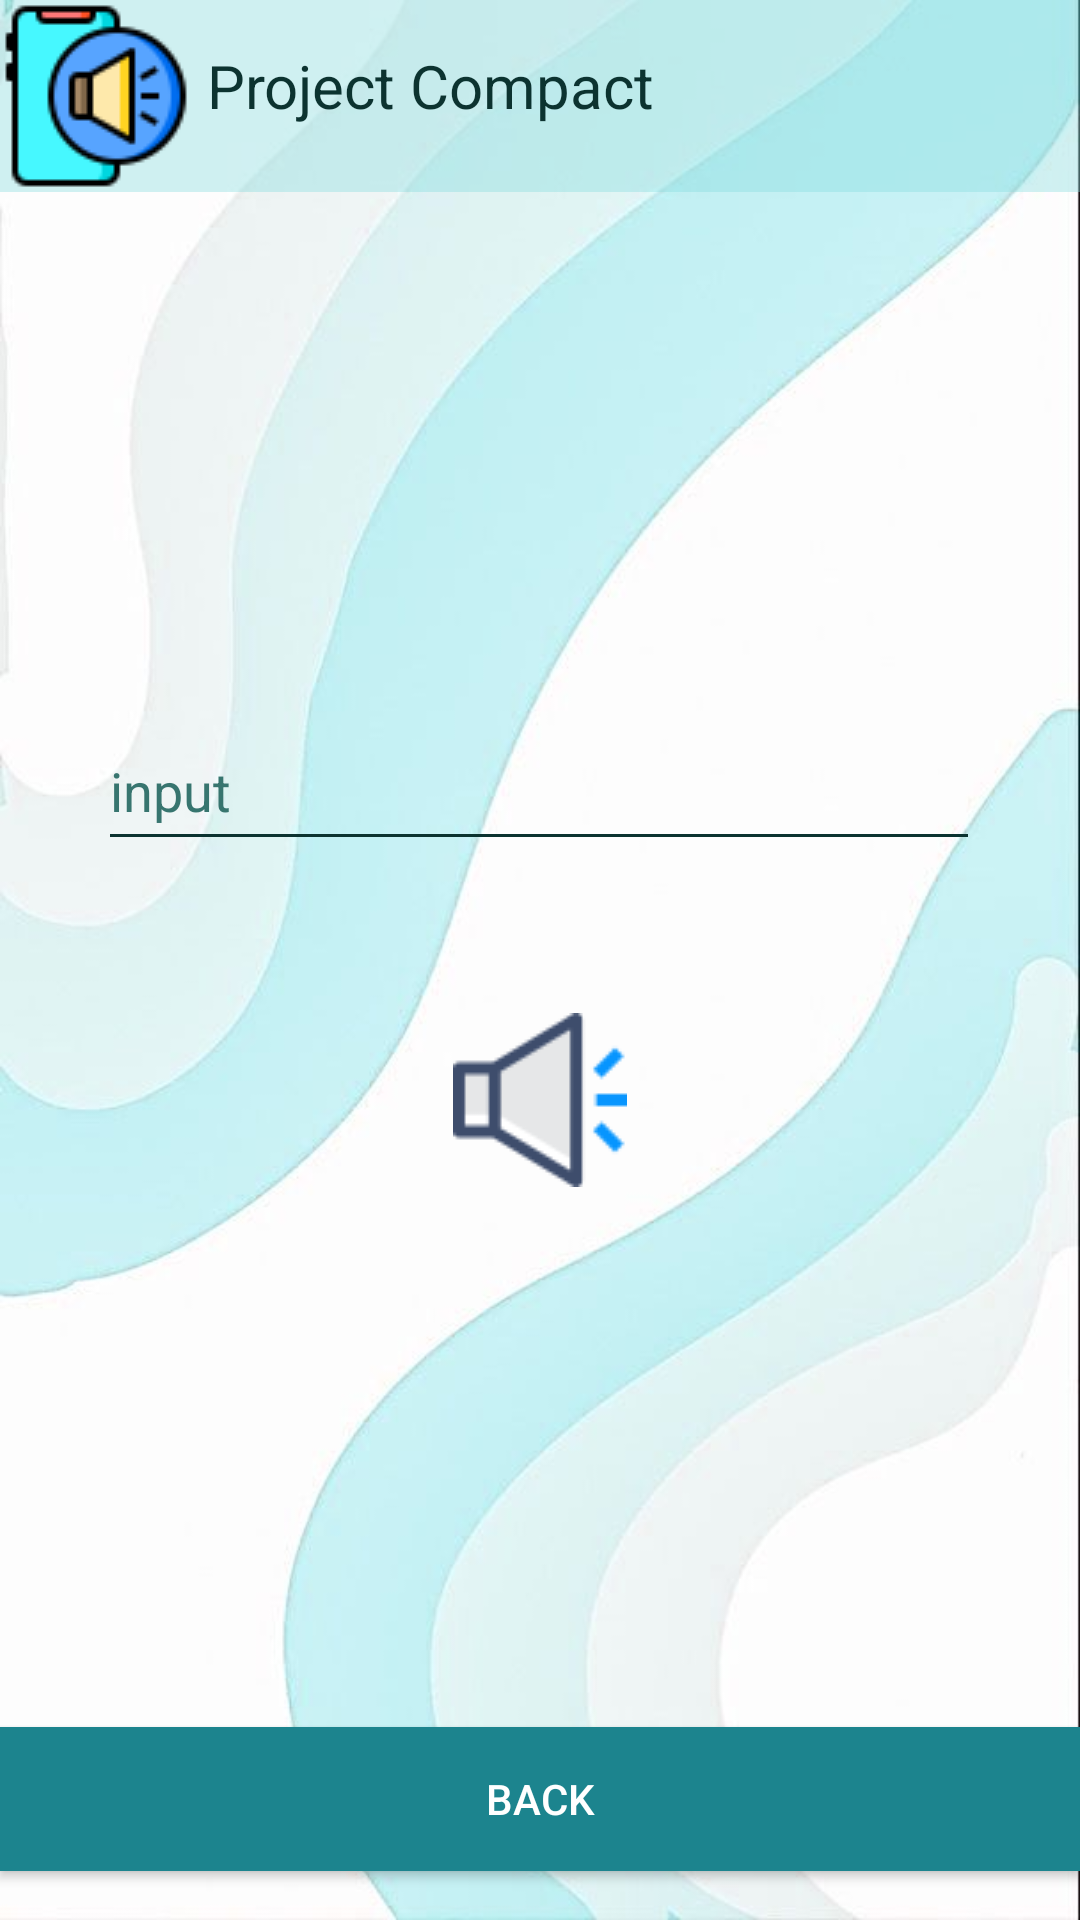

Icon click points for this 1080x1920 phone screenshot, format [x,y]:
speak: [540,1100]
